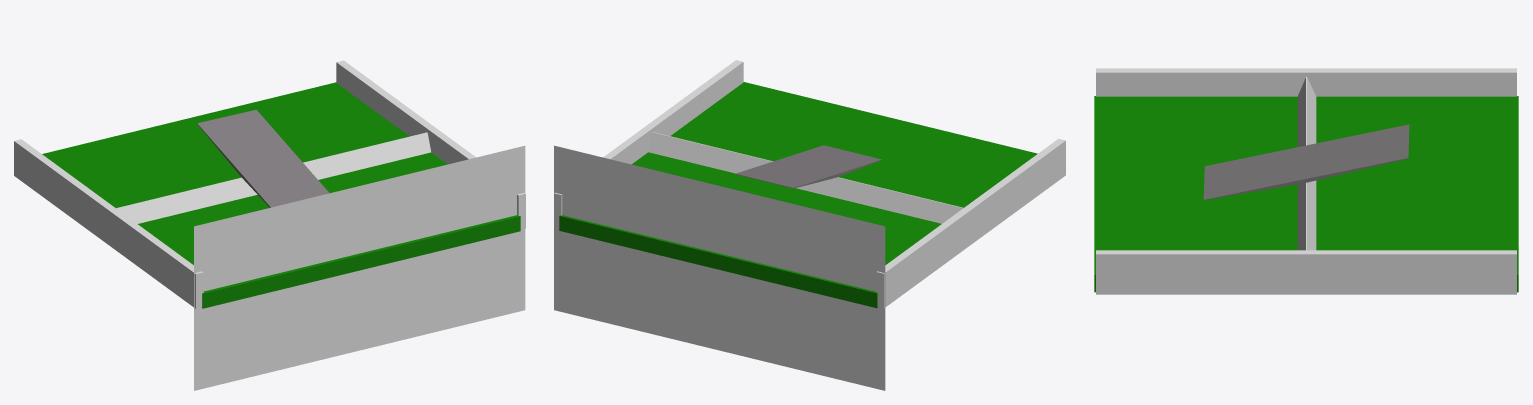
The model's file is tilt.gltf.
3 views of the same model, side by side, from view 1: azimuth 30°, elevation 25°; view 2: azimuth 150°, elevation 25°; view 3: azimuth 270°, elevation 25° (orthographic). The views are drawn at different scales.
Parts seen in each view (by area): view 1: obj_snap, Cube, Cube.001, Cube.006, Cube.005, Cube.002; view 2: obj_snap.001, Cube, Cube.001, Cube.005, Cube.002, Cube.006; view 3: Cube, Cube.002, Cube.001, Cube.006, Cube.005.
Boxes of the visible parts, bbox=[...] form: obj_snap: bbox=[194, 145, 525, 390]; Cube: bbox=[42, 82, 520, 308]; Cube.001: bbox=[14, 139, 203, 308]; Cube.006: bbox=[197, 109, 329, 207]; Cube.005: bbox=[116, 132, 430, 223]; Cube.002: bbox=[336, 60, 525, 229]; obj_snap.001: bbox=[554, 145, 885, 390]; Cube: bbox=[559, 82, 1037, 308]; Cube.001: bbox=[876, 138, 1065, 308]; Cube.005: bbox=[648, 132, 963, 223]; Cube.002: bbox=[554, 60, 743, 229]; Cube.006: bbox=[735, 145, 881, 188]; Cube: bbox=[1094, 96, 1518, 292]; Cube.002: bbox=[1096, 250, 1516, 294]; Cube.001: bbox=[1096, 68, 1516, 96]; Cube.006: bbox=[1203, 124, 1409, 200]; Cube.005: bbox=[1297, 76, 1316, 250].
Size of the model in its own units: 4.21 by 2 by 4.04.
